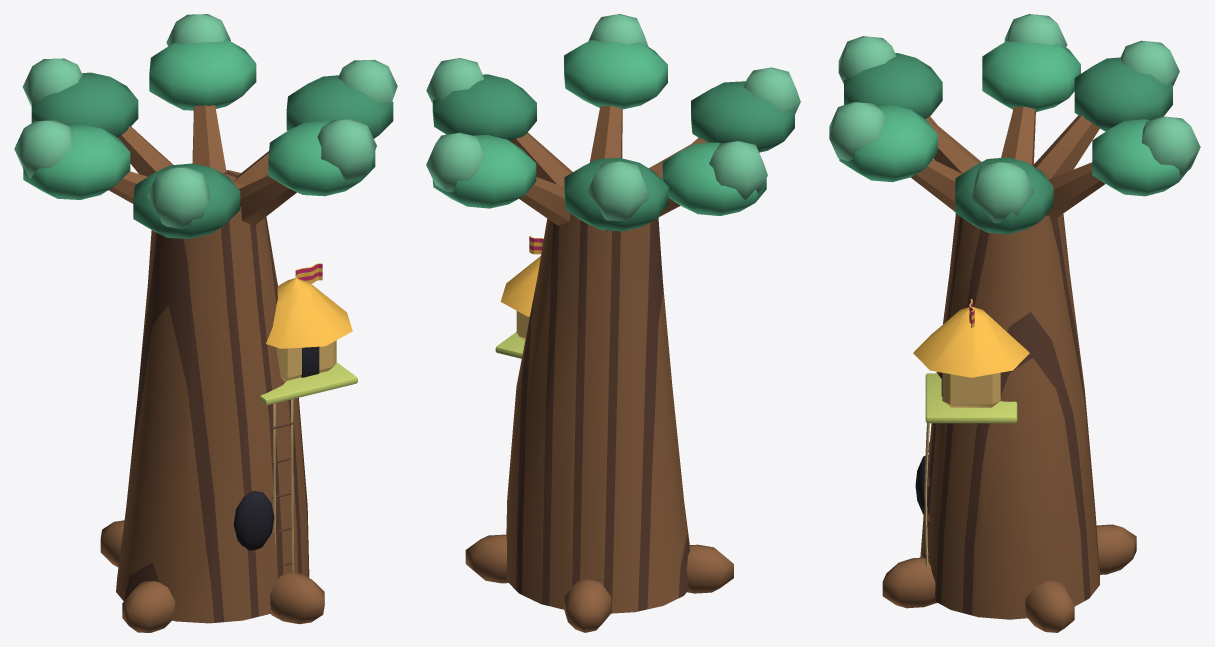
Rendered from W3_Baobab_B.fbx.
The picture shows the model from 3 angles, left to right: view 1: azimuth 30°, elevation 25°; view 2: azimuth 150°, elevation 25°; view 3: azimuth 270°, elevation 25°; orthographic projection. The views are drawn at different scales.
Visible parts, largest first — view 1: Static; view 2: Static; view 3: Static.
Boxes of the visible parts, x1,y1,x2,y2 form: Static: [14, 14, 397, 632]; Static: [426, 14, 800, 632]; Static: [829, 14, 1200, 632].
Size of the model in its own units: 16.18 by 22.3 by 14.59.
